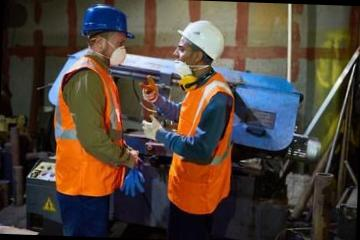Vest: (52, 56, 132, 194), (166, 76, 234, 208)
